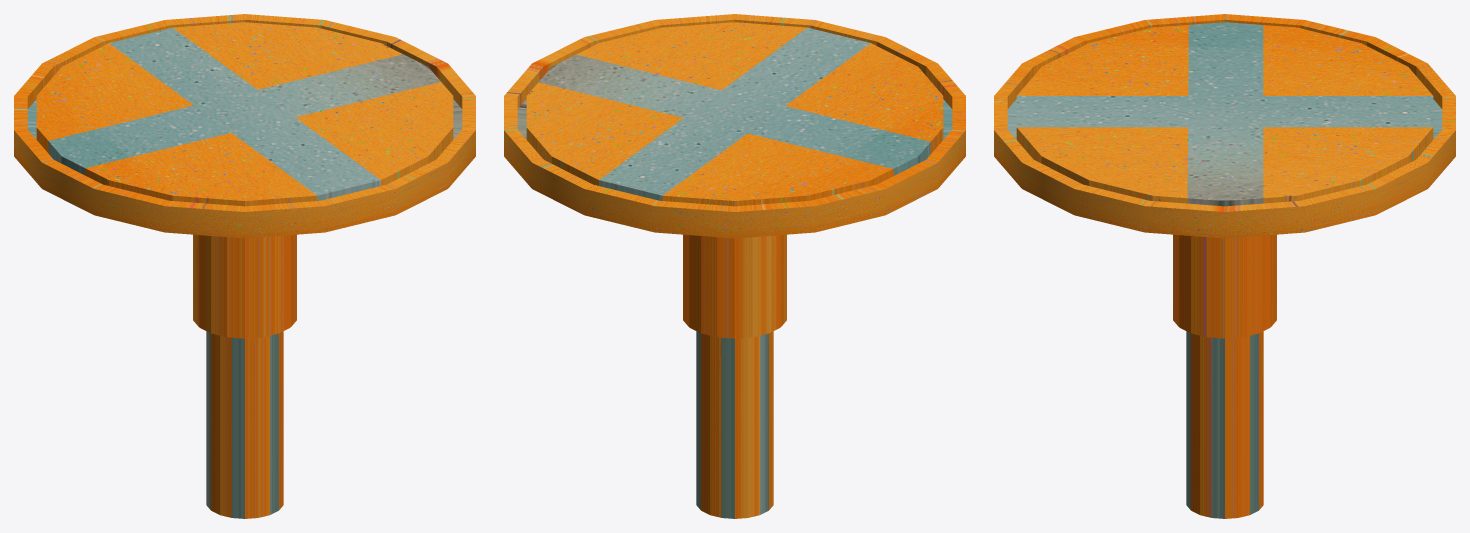
The model's file is scene1_button_1.FBX.
3 views of the same model, side by side, from view 1: azimuth 30°, elevation 25°; view 2: azimuth 150°, elevation 25°; view 3: azimuth 270°, elevation 25° (orthographic).
Visible parts, largest first — view 1: Cylinder056; view 2: Cylinder056; view 3: Cylinder056.
Boxes of the visible parts, bbox=[...] form: Cylinder056: bbox=[14, 14, 475, 518]; Cylinder056: bbox=[504, 14, 965, 518]; Cylinder056: bbox=[994, 14, 1455, 518].
Size of the model in its own units: 7.77 by 7.14 by 7.65.
2 materials, 2 textured.
